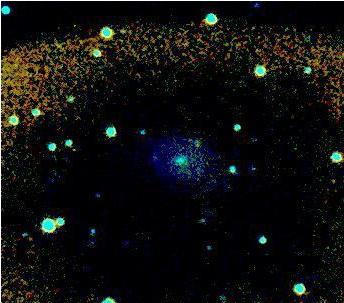star: (105, 222, 135, 252)
